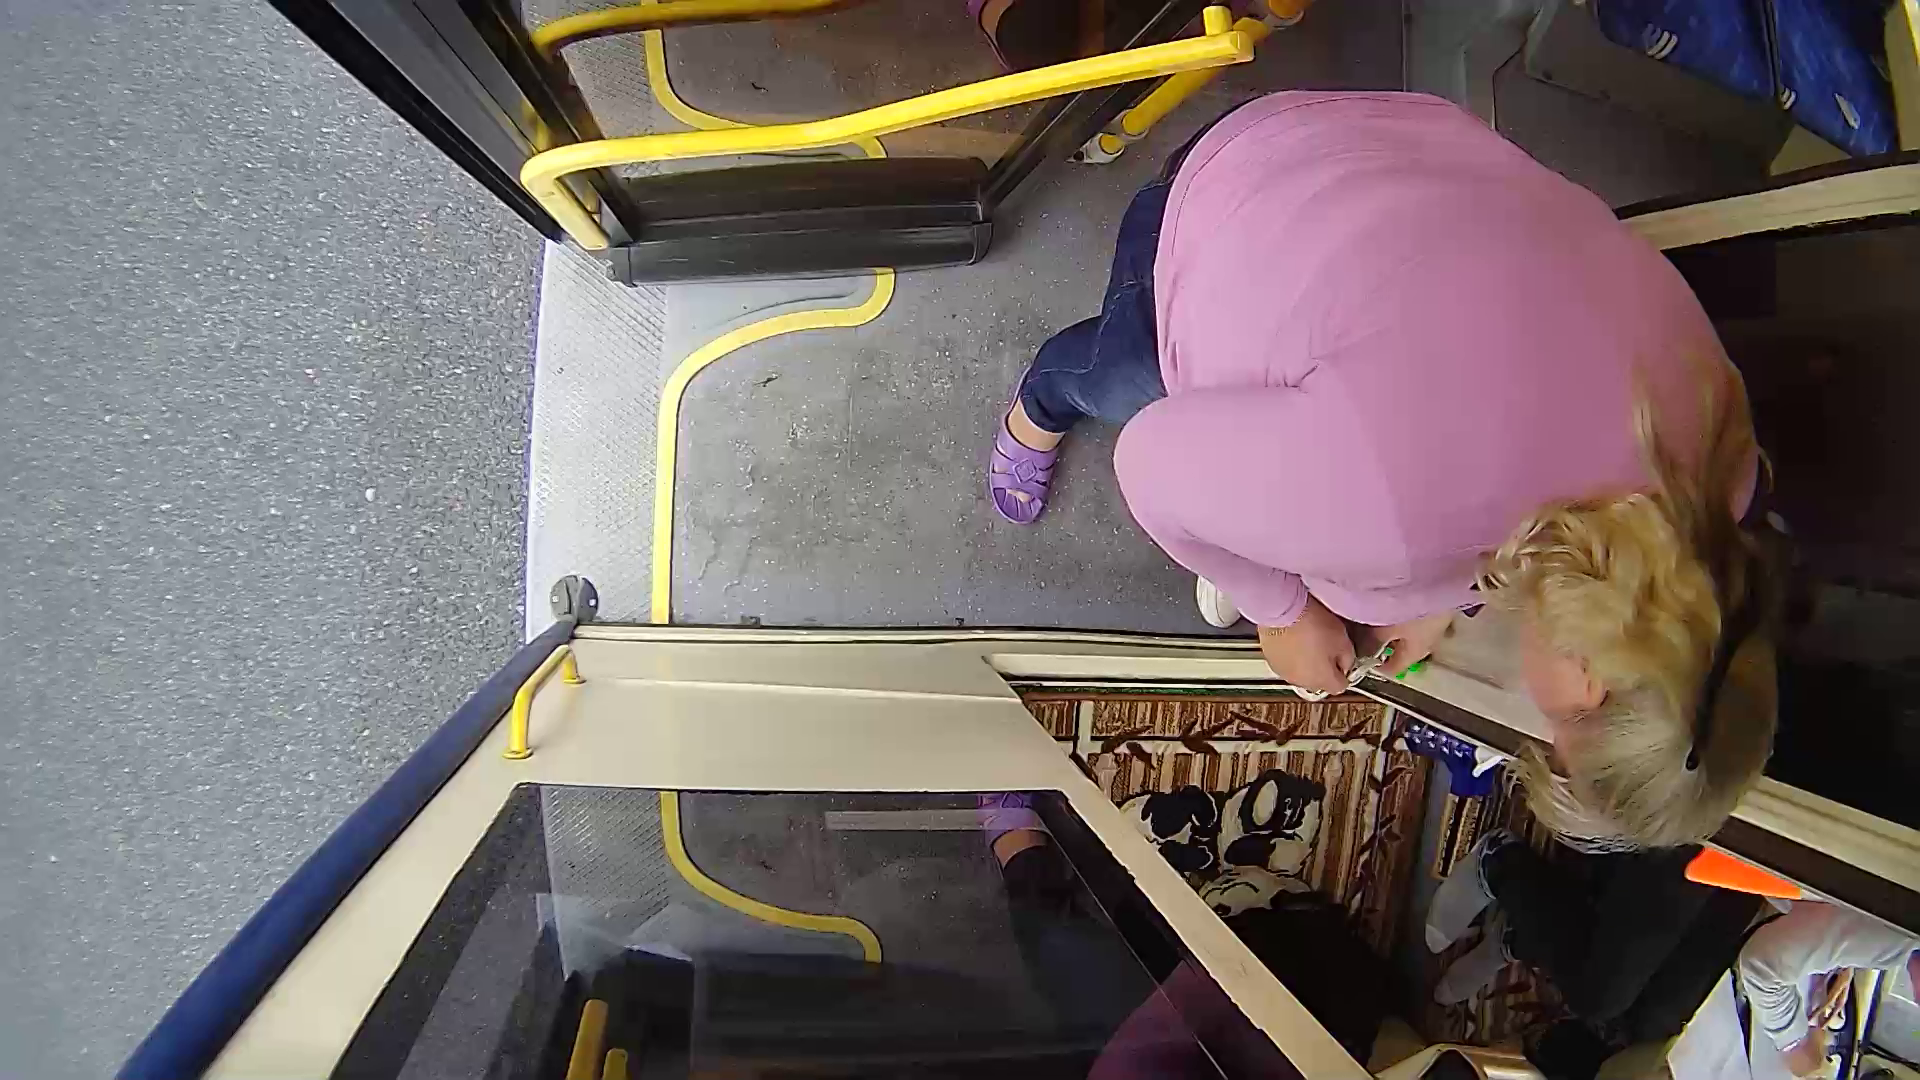person: (1030, 40, 1802, 856)
